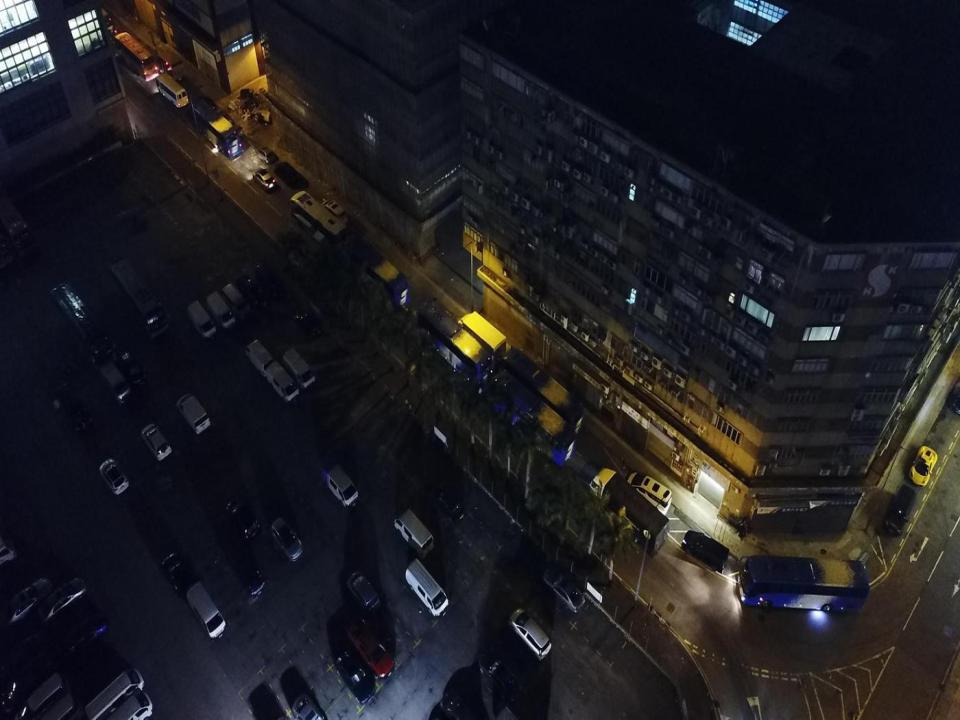bus: (489, 370, 577, 467), (737, 554, 870, 613), (500, 346, 584, 439), (418, 301, 492, 393), (52, 280, 115, 373), (110, 255, 170, 342), (343, 236, 409, 307), (290, 190, 349, 256), (190, 98, 244, 160), (115, 33, 159, 82), (156, 72, 189, 108)
car: (230, 546, 265, 600), (55, 385, 92, 431), (270, 515, 303, 562), (226, 498, 259, 542), (140, 420, 172, 463), (160, 551, 190, 593), (433, 483, 465, 522), (234, 273, 266, 311), (910, 445, 938, 488), (115, 351, 146, 388), (99, 457, 130, 494), (294, 309, 322, 341), (274, 162, 299, 184), (252, 168, 276, 190), (256, 146, 276, 164), (200, 95, 217, 113)
truck: (588, 467, 668, 556), (0, 189, 42, 263), (457, 312, 506, 369), (158, 50, 184, 83)
van: (187, 580, 225, 642), (394, 505, 434, 559), (682, 530, 729, 575), (627, 471, 672, 516), (885, 485, 916, 536), (326, 462, 359, 509), (282, 346, 316, 390), (266, 362, 300, 406), (176, 390, 210, 434), (99, 360, 130, 403), (256, 262, 284, 304), (246, 339, 276, 374), (223, 283, 249, 321), (207, 291, 233, 328), (187, 301, 213, 338), (322, 199, 348, 224)
